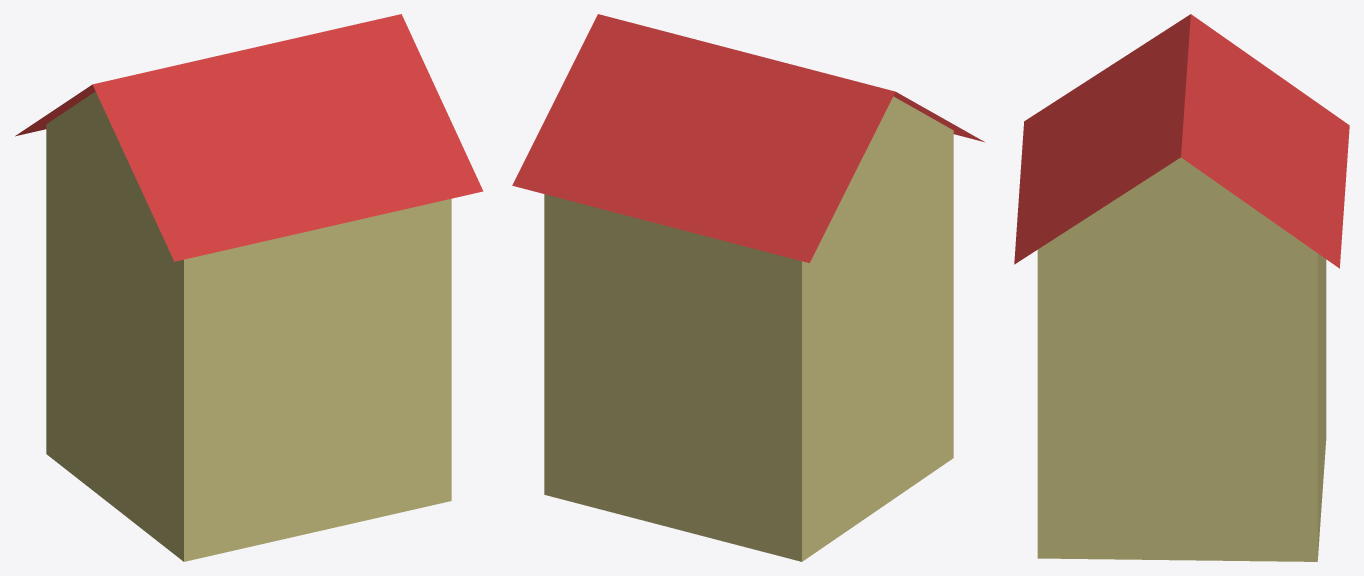
The picture shows the model from 3 angles, left to right: view 1: azimuth 30°, elevation 25°; view 2: azimuth 150°, elevation 25°; view 3: azimuth 270°, elevation 25°; orthographic projection. The views are drawn at different scales.
Size of the model in its own units: 11.5 by 11.06 by 15.01.
